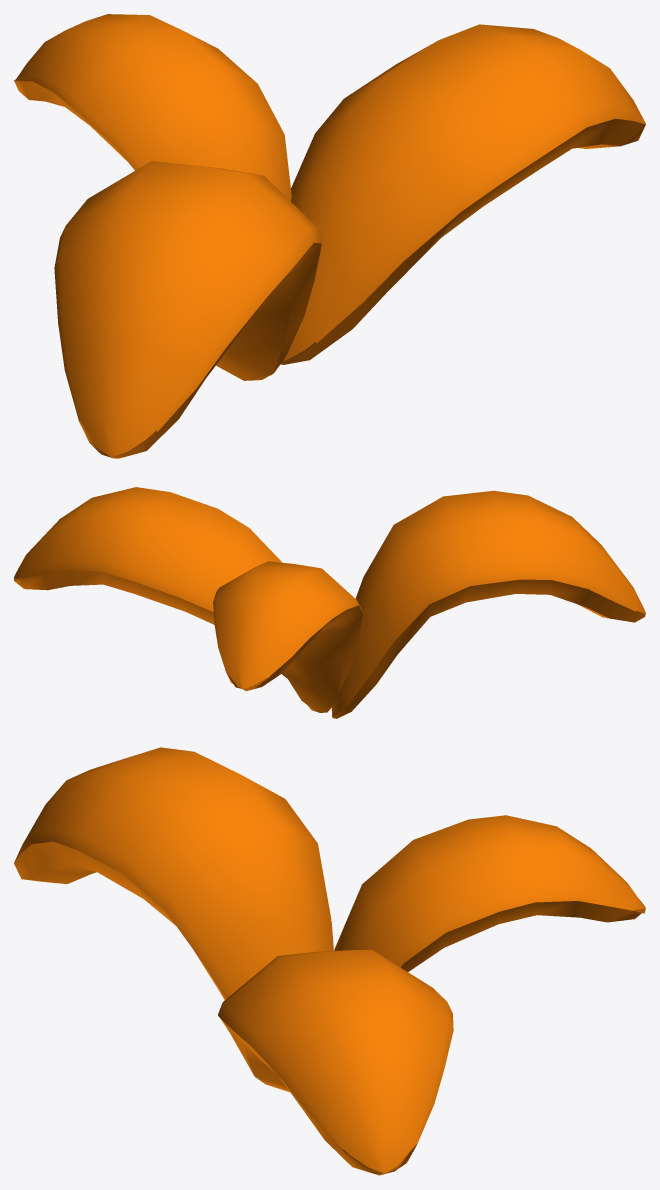
File: Plant 2 (Orange) - Lvl 1.fbx
The picture shows the model from 3 angles, top to bottom: view 1: azimuth 30°, elevation 25°; view 2: azimuth 150°, elevation 25°; view 3: azimuth 270°, elevation 25°; orthographic projection. The views are drawn at different scales.
Parts seen in each view (by area): view 1: plantB_forest; view 2: plantB_forest; view 3: plantB_forest.
Part boxes in pixels (<box>): plantB_forest: <box>14,14,645,458</box>; plantB_forest: <box>14,487,645,718</box>; plantB_forest: <box>14,747,645,1175</box>.
Size of the model in its own units: 40.42 by 32.85 by 15.19.
